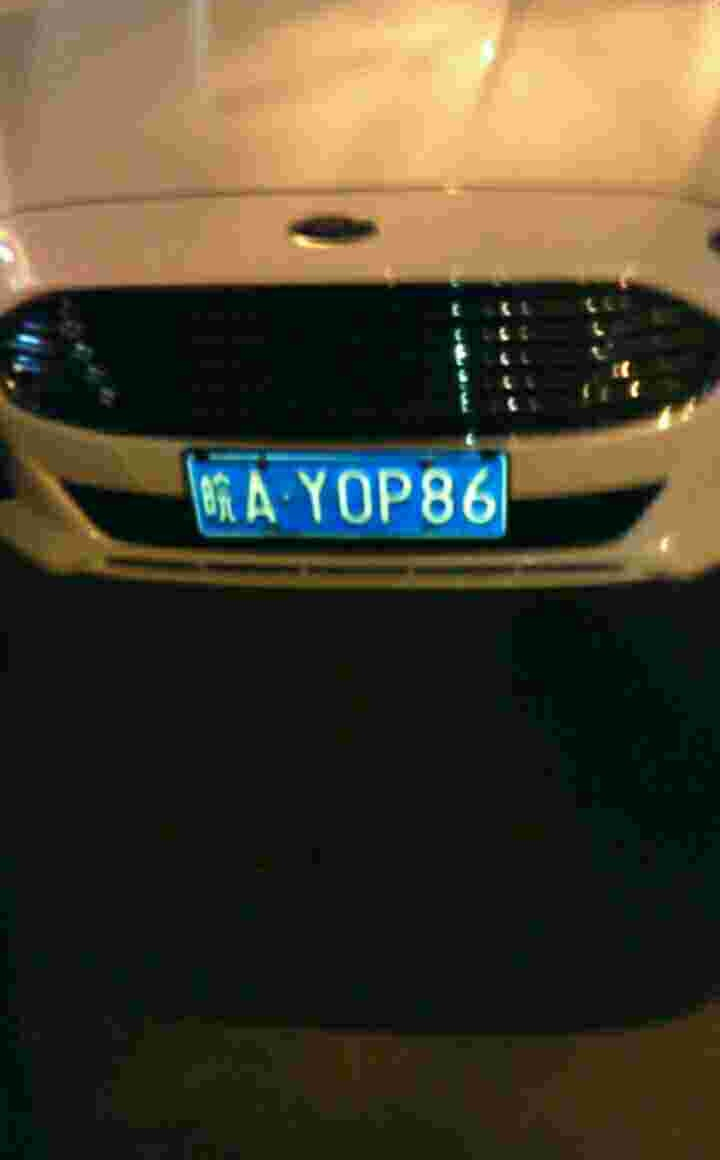license_plate: (183, 449, 506, 544)
